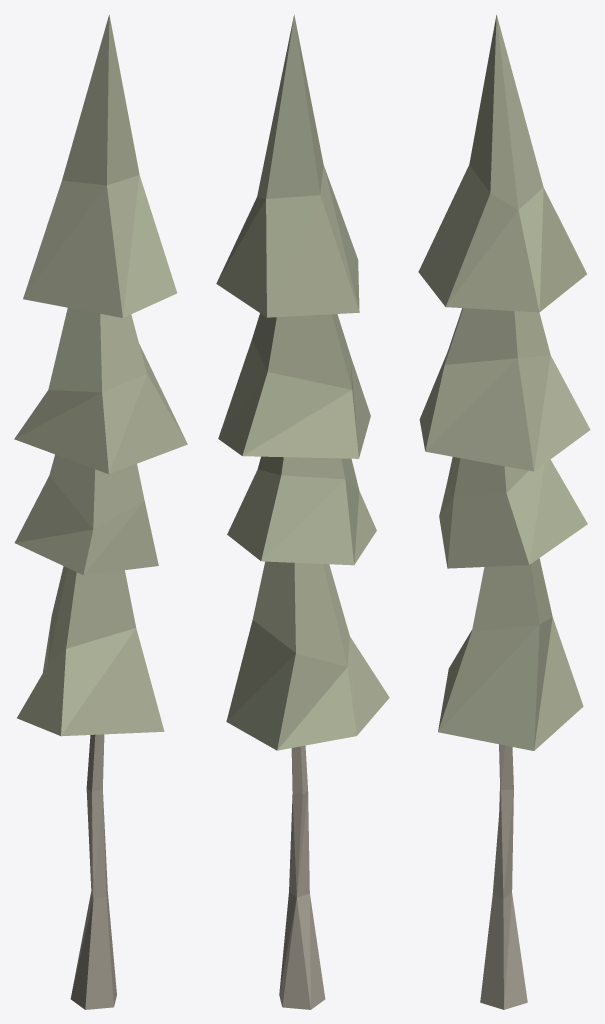
File: PseudotsugaMenziesii.glb
3 views of the same model, side by side, from view 1: azimuth 30°, elevation 25°; view 2: azimuth 150°, elevation 25°; view 3: azimuth 270°, elevation 25° (orthographic).
Visible parts, largest first — view 1: Crown, Trunk; view 2: Crown, Trunk; view 3: Crown, Trunk.
Part boxes in pixels (x1,y1,x2,y2): Crown: [14, 15, 187, 736]; Trunk: [70, 734, 116, 1009]; Crown: [216, 14, 389, 750]; Trunk: [279, 745, 325, 1009]; Crown: [418, 15, 590, 750]; Trunk: [480, 744, 527, 1009].
Bounding box in the file's own units: 9.58 × 65.43 × 10.31.
